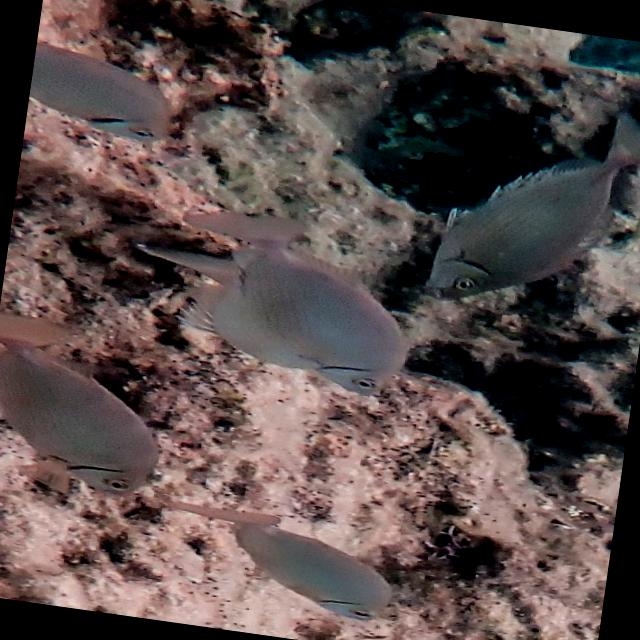Sokar Baligi: (156, 196, 426, 419), (396, 84, 640, 324), (137, 487, 413, 640)
